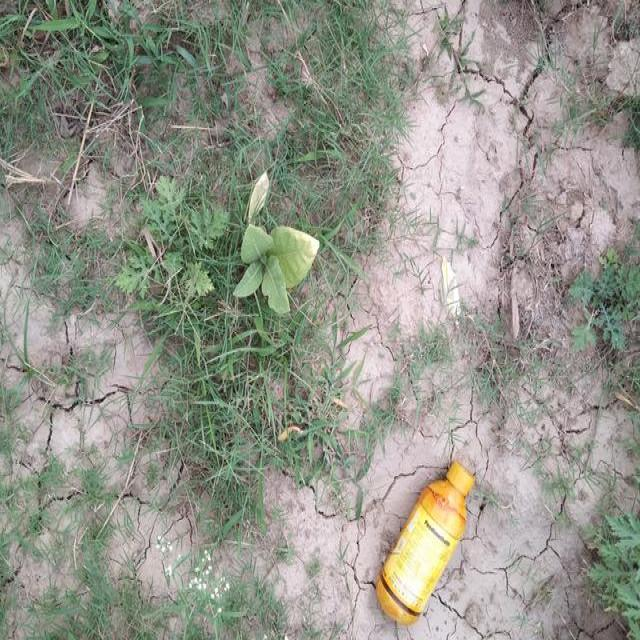crop: (232, 218, 329, 320)
